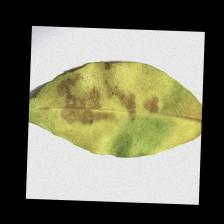canker: (54, 67, 164, 137)
